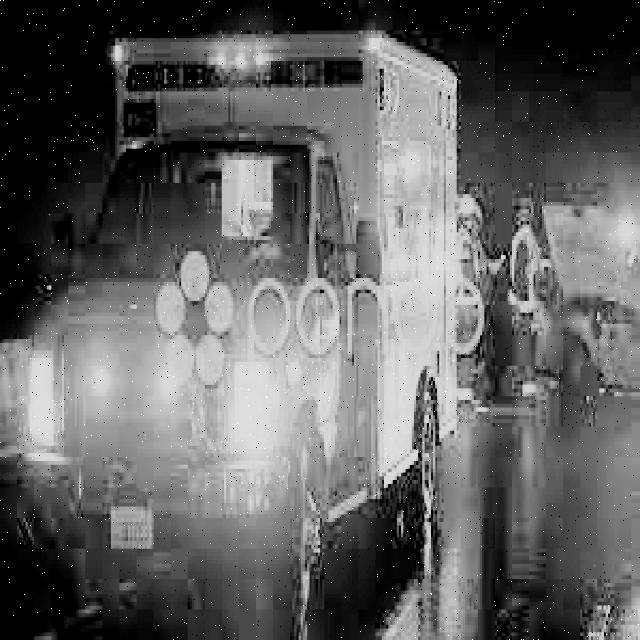Ambulance: (9, 9, 474, 490)
